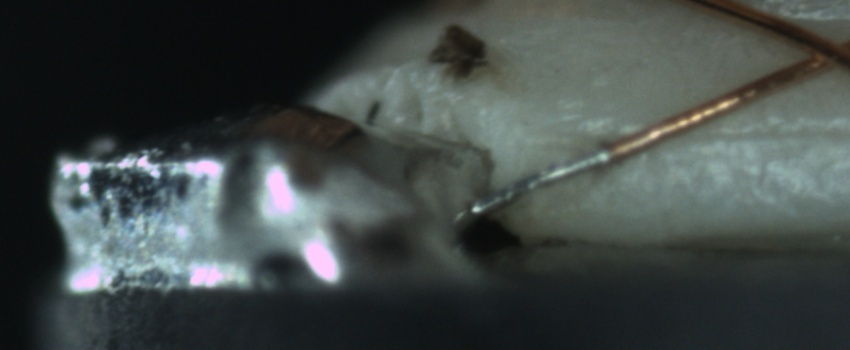CL: (780, 21, 847, 79)
DL: (544, 104, 850, 168)
TS: (453, 149, 612, 227)
